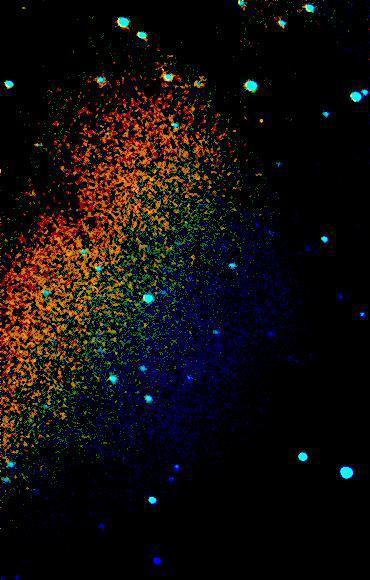star: (246, 106, 276, 136)
